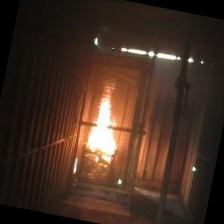fire: (80, 75, 130, 162)
